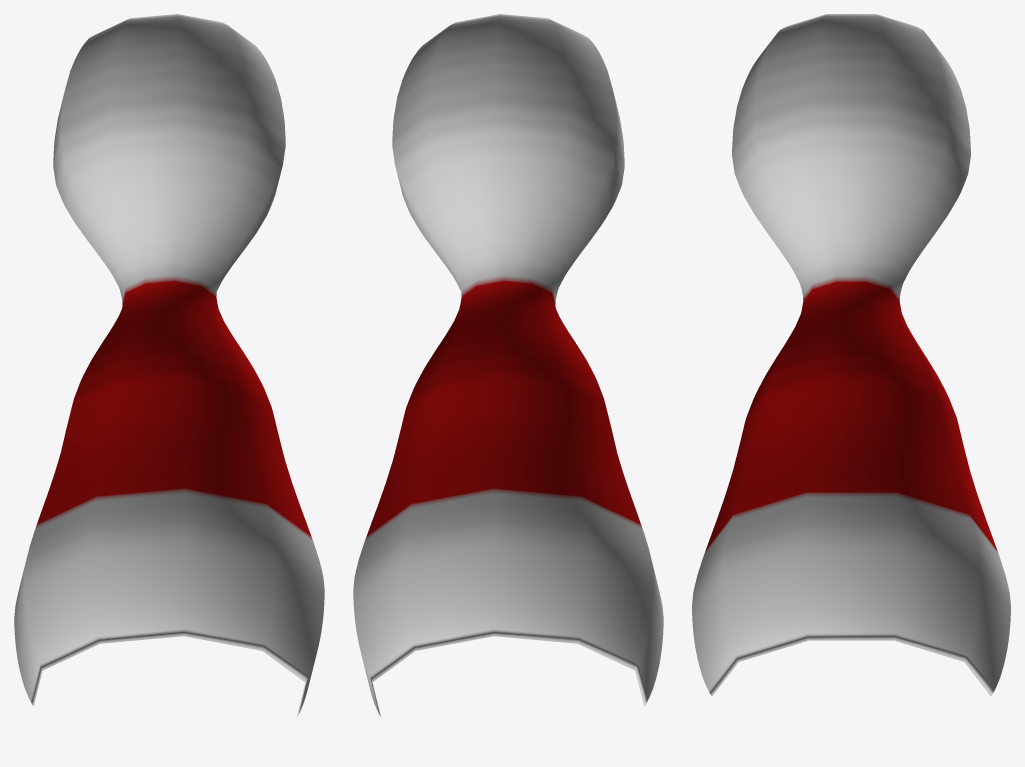
File: test_bowling_pin.glb
3 views of the same model, side by side, from view 1: azimuth 30°, elevation 25°; view 2: azimuth 150°, elevation 25°; view 3: azimuth 270°, elevation 25° (orthographic).
Visible parts, largest first — view 1: bowling_pin; view 2: bowling_pin; view 3: bowling_pin.
Part boxes in pixels (bbox=[...]): bowling_pin: bbox=[14, 14, 324, 717]; bowling_pin: bbox=[353, 14, 663, 717]; bowling_pin: bbox=[692, 14, 1010, 696].
Bounding box in the file's own units: 0.7605 × 1.8 × 0.7996.
